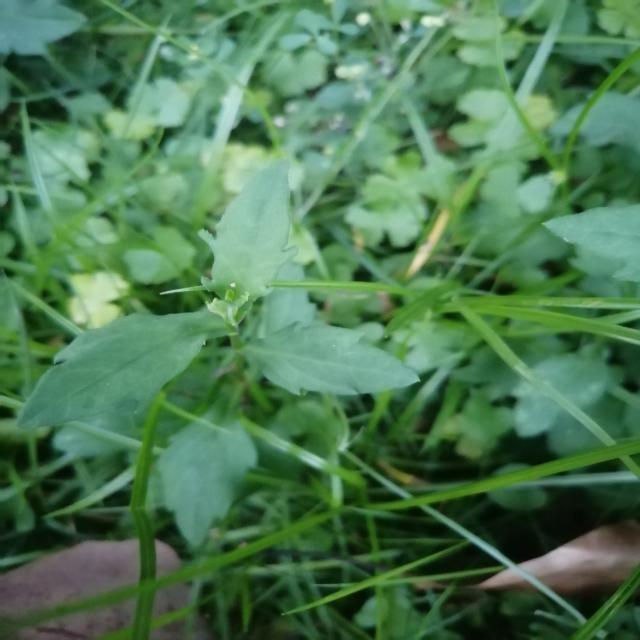Indian aster: (61, 176, 408, 492)
